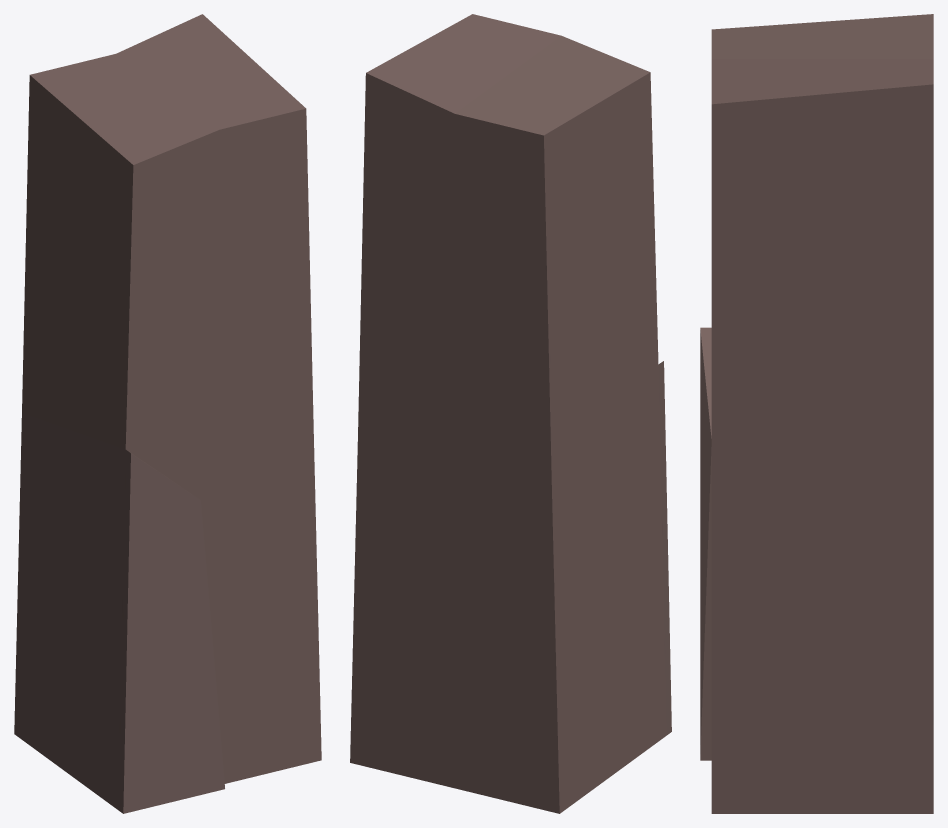
File: rock3_wall_decoration.fbx
3 renders of one model, left to right at view 1: azimuth 30°, elevation 25°; view 2: azimuth 150°, elevation 25°; view 3: azimuth 270°, elevation 25°, orthographic. The views are drawn at different scales.
Visible parts, largest first — view 1: rock3_wall_decoration; view 2: rock3_wall_decoration; view 3: rock3_wall_decoration.
Boxes of the visible parts, x1,y1,x2,y2 form: rock3_wall_decoration: [14, 14, 321, 813]; rock3_wall_decoration: [350, 14, 671, 813]; rock3_wall_decoration: [700, 14, 933, 813].
Size of the model in its own units: 259 by 820 by 240.
